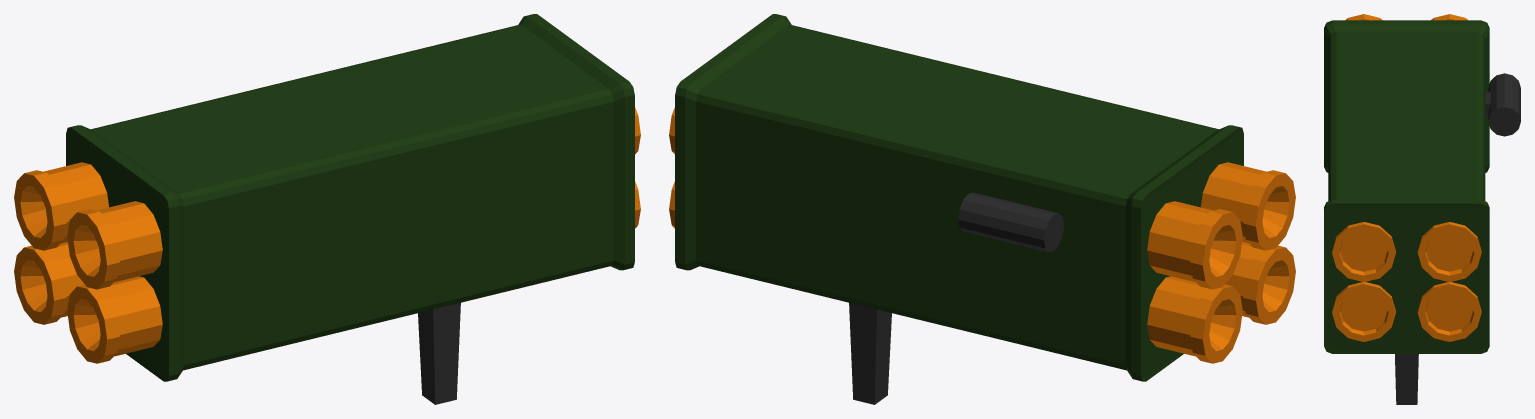
File: rocket launcher v3.fbx
The picture shows the model from 3 angles, left to right: view 1: azimuth 30°, elevation 25°; view 2: azimuth 150°, elevation 25°; view 3: azimuth 270°, elevation 25°; orthographic projection. The views are drawn at different scales.
Visible parts, largest first — view 1: Weapon_01; view 2: Weapon_01; view 3: Weapon_01.
Boxes of the visible parts, <box> form: Weapon_01: <box>14,14,640,404</box>; Weapon_01: <box>669,14,1295,404</box>; Weapon_01: <box>1324,14,1520,404</box>.
Bounding box in the file's own units: 418 × 235 × 165.
